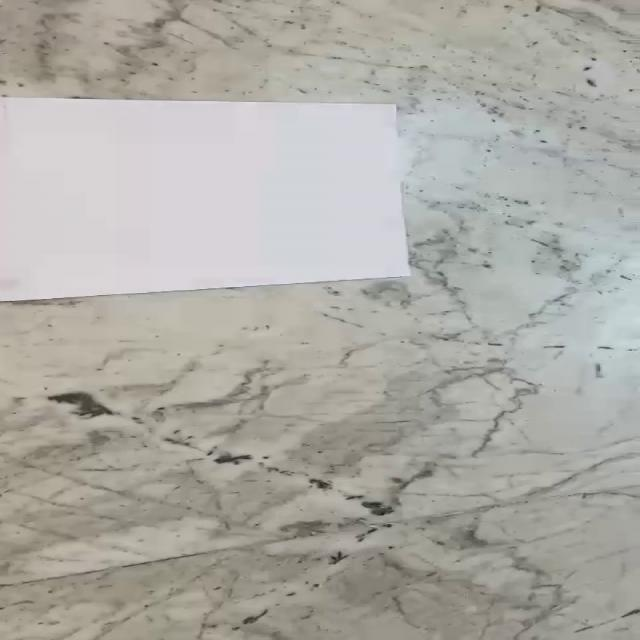road: (0, 97, 409, 302)
